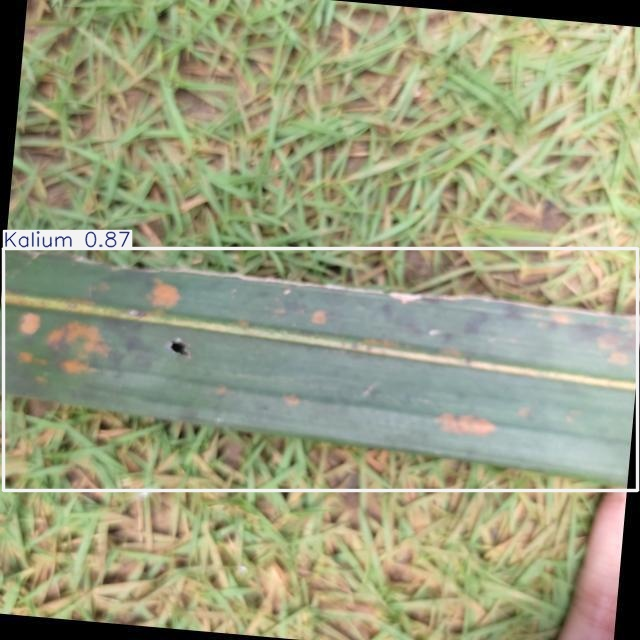Kalium: (3, 249, 637, 490)
